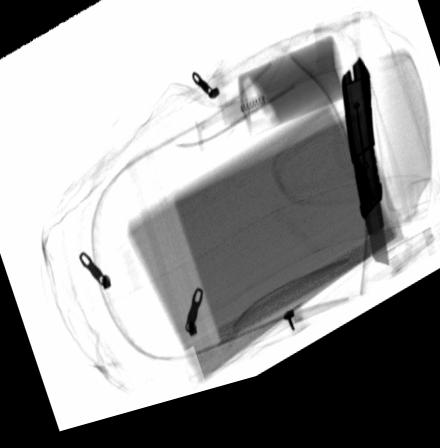Knife: (339, 74, 389, 288)
